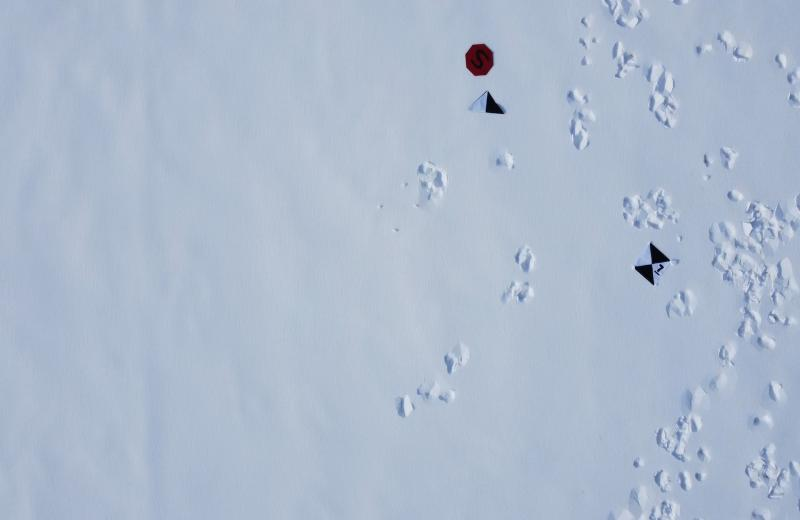Octagon: (464, 42, 496, 77)
